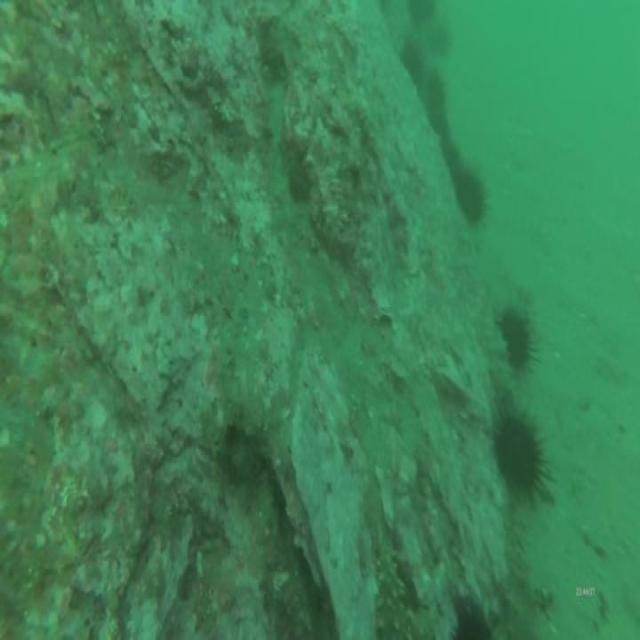echinus: (492, 397, 550, 499), (496, 302, 537, 376), (450, 161, 490, 232), (452, 591, 498, 640), (398, 36, 428, 87), (422, 100, 452, 146), (441, 138, 468, 184), (422, 66, 446, 114), (403, 0, 438, 32), (428, 23, 452, 58)
holothurian: (370, 545, 412, 640)
